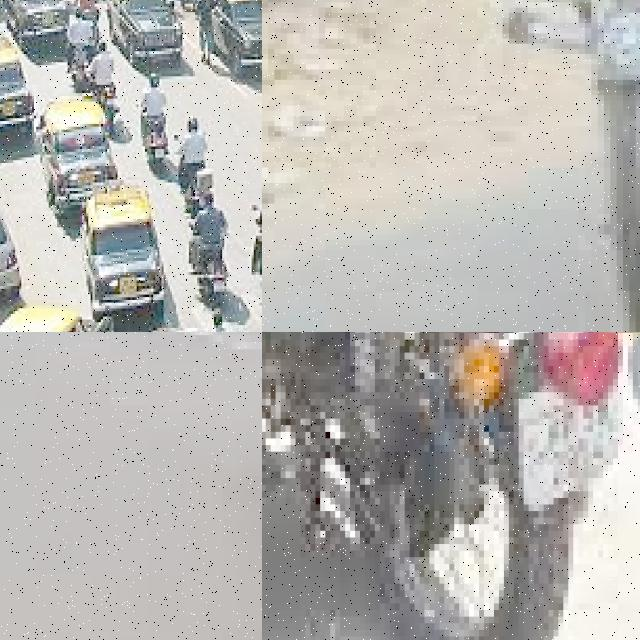bike: (262, 332, 640, 640), (395, 0, 640, 332), (184, 213, 234, 317), (130, 102, 178, 172), (255, 199, 262, 308)
